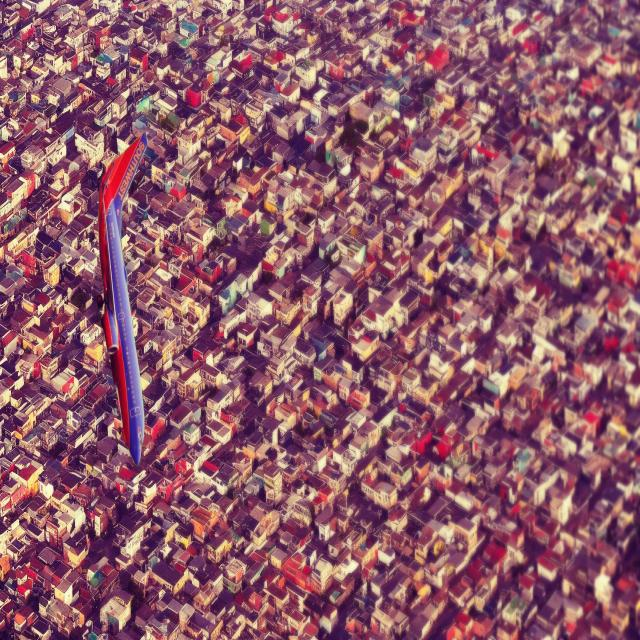airplane: (95, 130, 148, 465)
